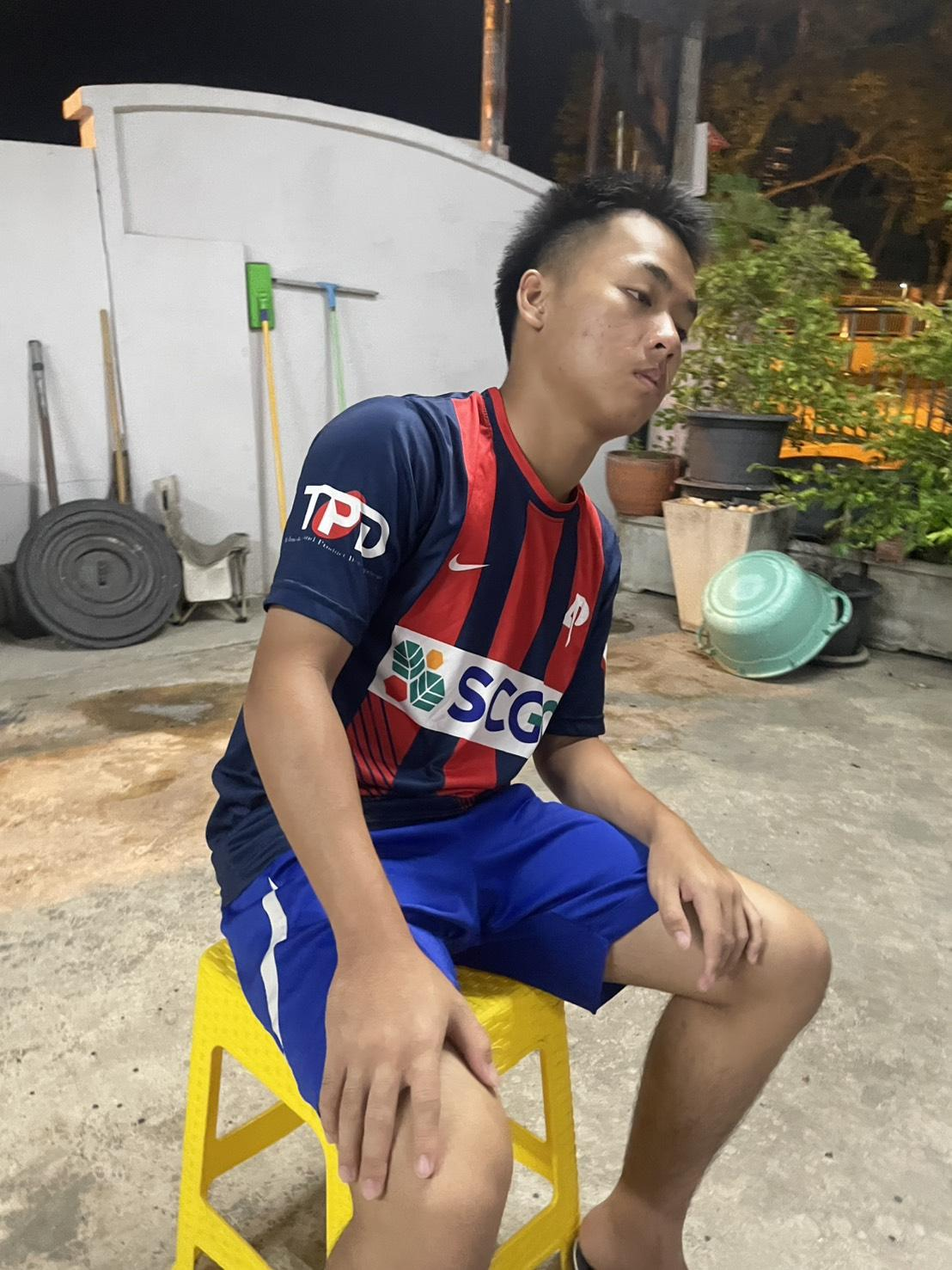BadPosture: (269, 173, 706, 822)
